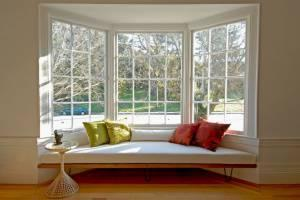window: (39, 3, 257, 138)
